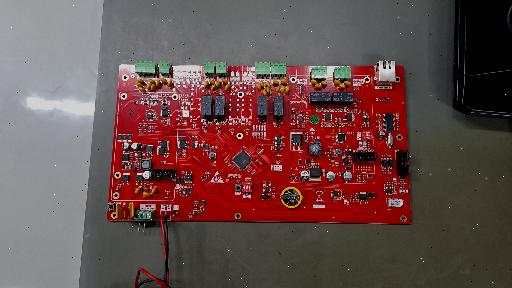var: (115, 203, 125, 220), (128, 201, 135, 219), (151, 187, 158, 195), (135, 187, 142, 194), (167, 80, 173, 88), (137, 78, 145, 84), (156, 80, 161, 89), (143, 192, 152, 197), (161, 78, 168, 84), (310, 79, 317, 85), (315, 83, 322, 89), (135, 82, 143, 87), (225, 84, 230, 92), (333, 80, 341, 85), (138, 87, 146, 92), (280, 86, 285, 94), (222, 78, 228, 84), (209, 79, 215, 85), (262, 90, 268, 96), (281, 79, 287, 85), (339, 84, 346, 89), (216, 81, 221, 88), (204, 81, 209, 88), (344, 81, 351, 86), (257, 83, 262, 90), (211, 84, 216, 91), (151, 84, 156, 91), (260, 80, 264, 88), (147, 83, 151, 91), (285, 86, 289, 94), (149, 79, 155, 84), (273, 80, 279, 85), (321, 81, 327, 86), (267, 81, 271, 88), (266, 87, 270, 94), (276, 86, 280, 93)
